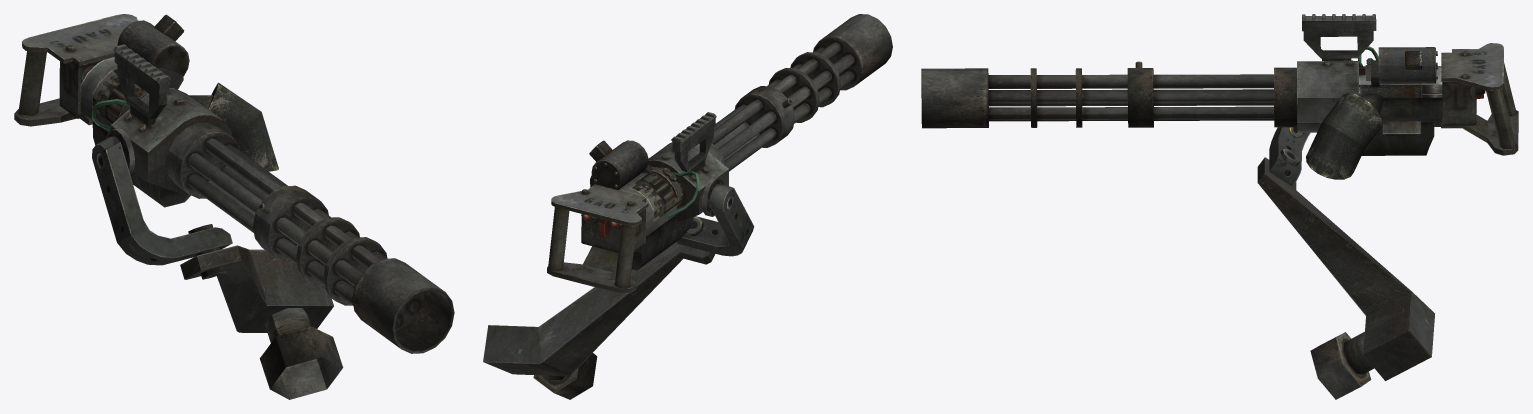
File: sm4_GAU.fbx
3 renders of one model, left to right at view 1: azimuth 30°, elevation 25°; view 2: azimuth 150°, elevation 25°; view 3: azimuth 270°, elevation 25°, orthographic. The views are drawn at different scales.
Visible parts, largest first — view 1: sm4_GAU; view 2: sm4_GAU; view 3: sm4_GAU.
Boxes of the visible parts, x1=… form: sm4_GAU: x1=14, y1=14, x2=454, y2=399; sm4_GAU: x1=483, y1=14, x2=892, y2=399; sm4_GAU: x1=921, y1=14, x2=1518, y2=399.
Size of the model in its own units: 55.63 by 77.58 by 133.
